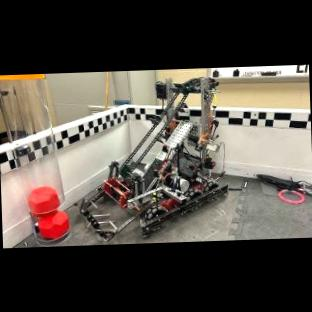Robot: (80, 76, 227, 239)
